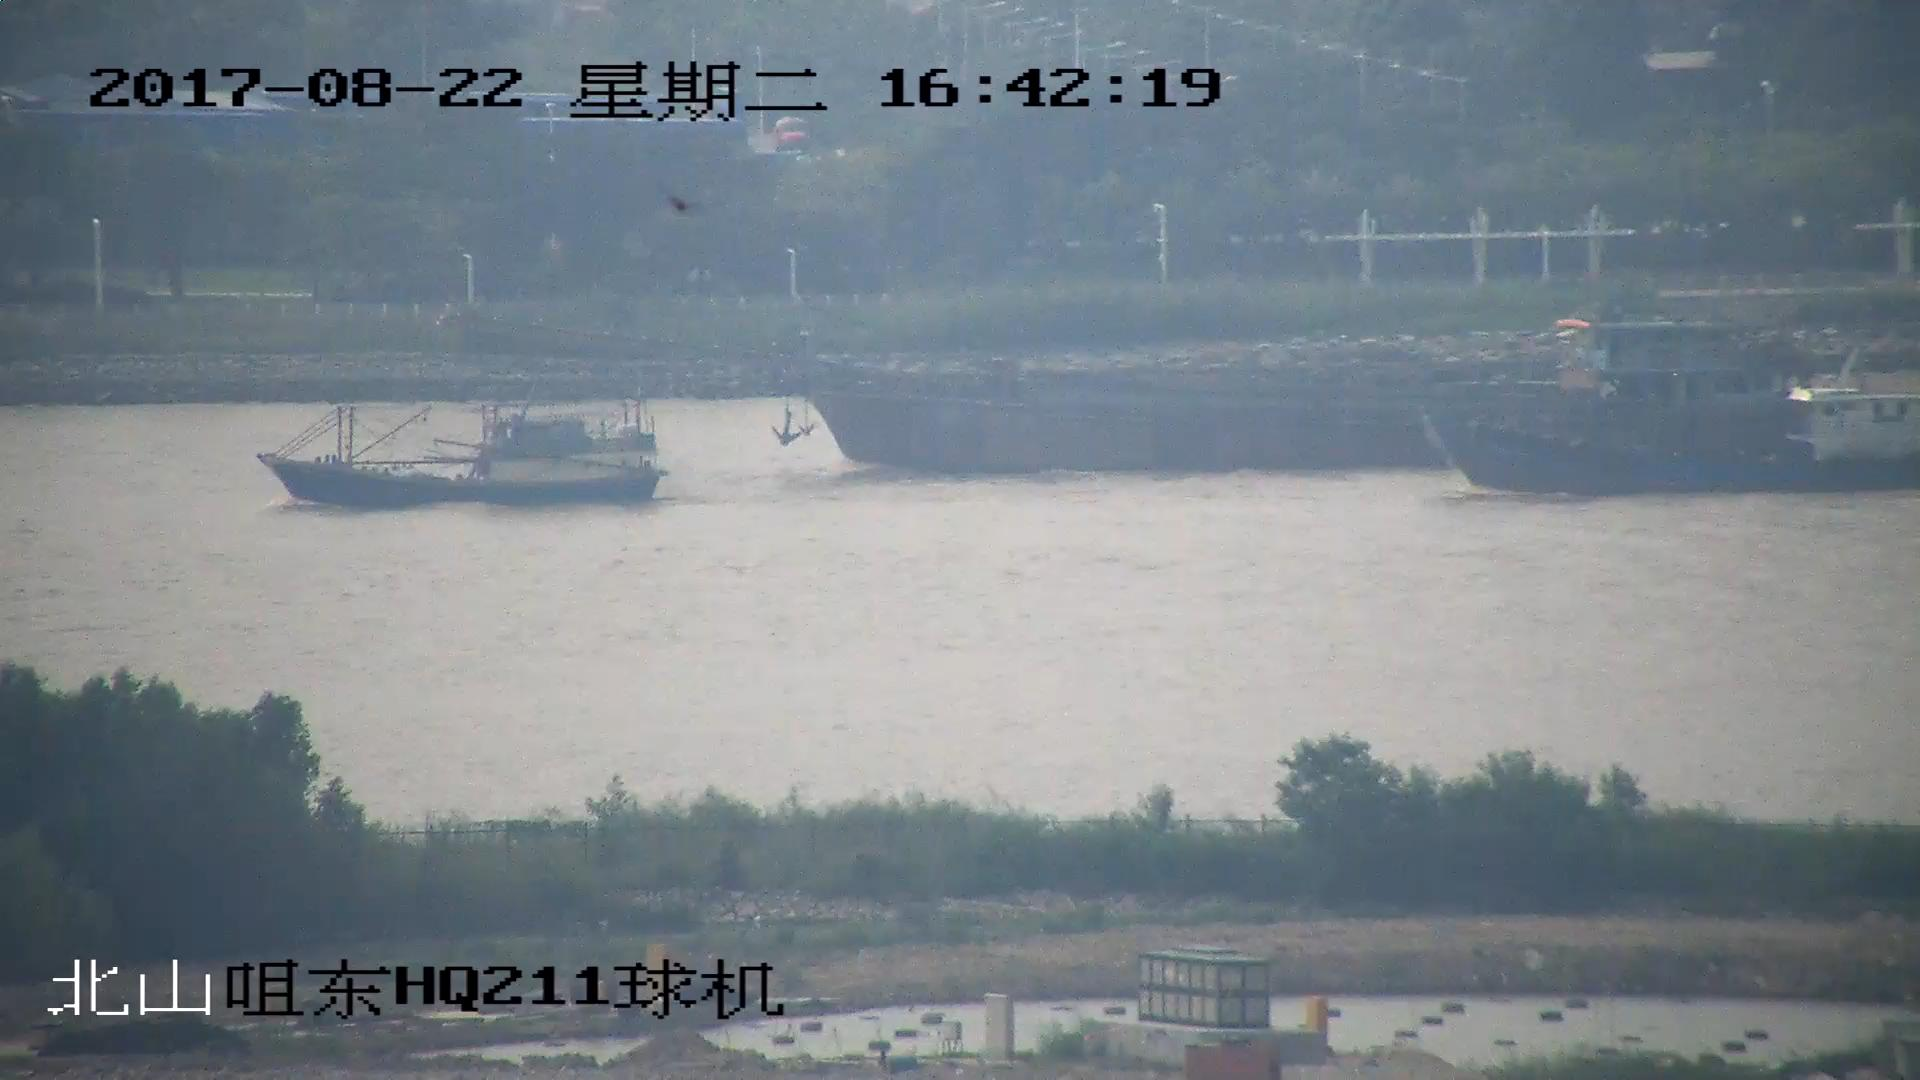bulk cargo carrier: (440, 297, 1795, 476)
fishing boat: (1427, 384, 1920, 499), (257, 390, 659, 505)
